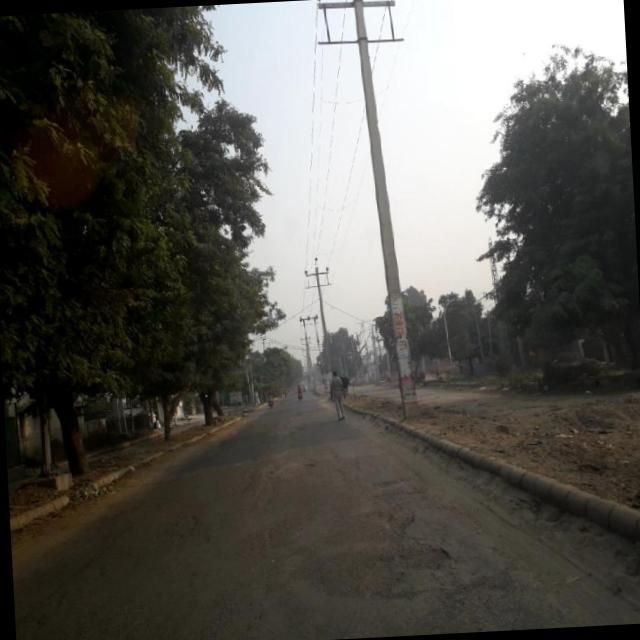pothole: (324, 442, 452, 582), (416, 574, 540, 634), (253, 424, 318, 512), (150, 500, 204, 542)
